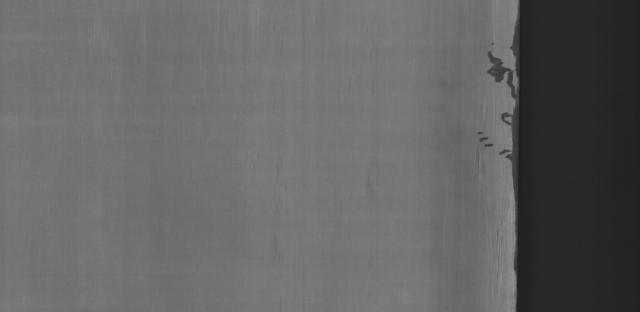oil_spot: (477, 29, 521, 168)
